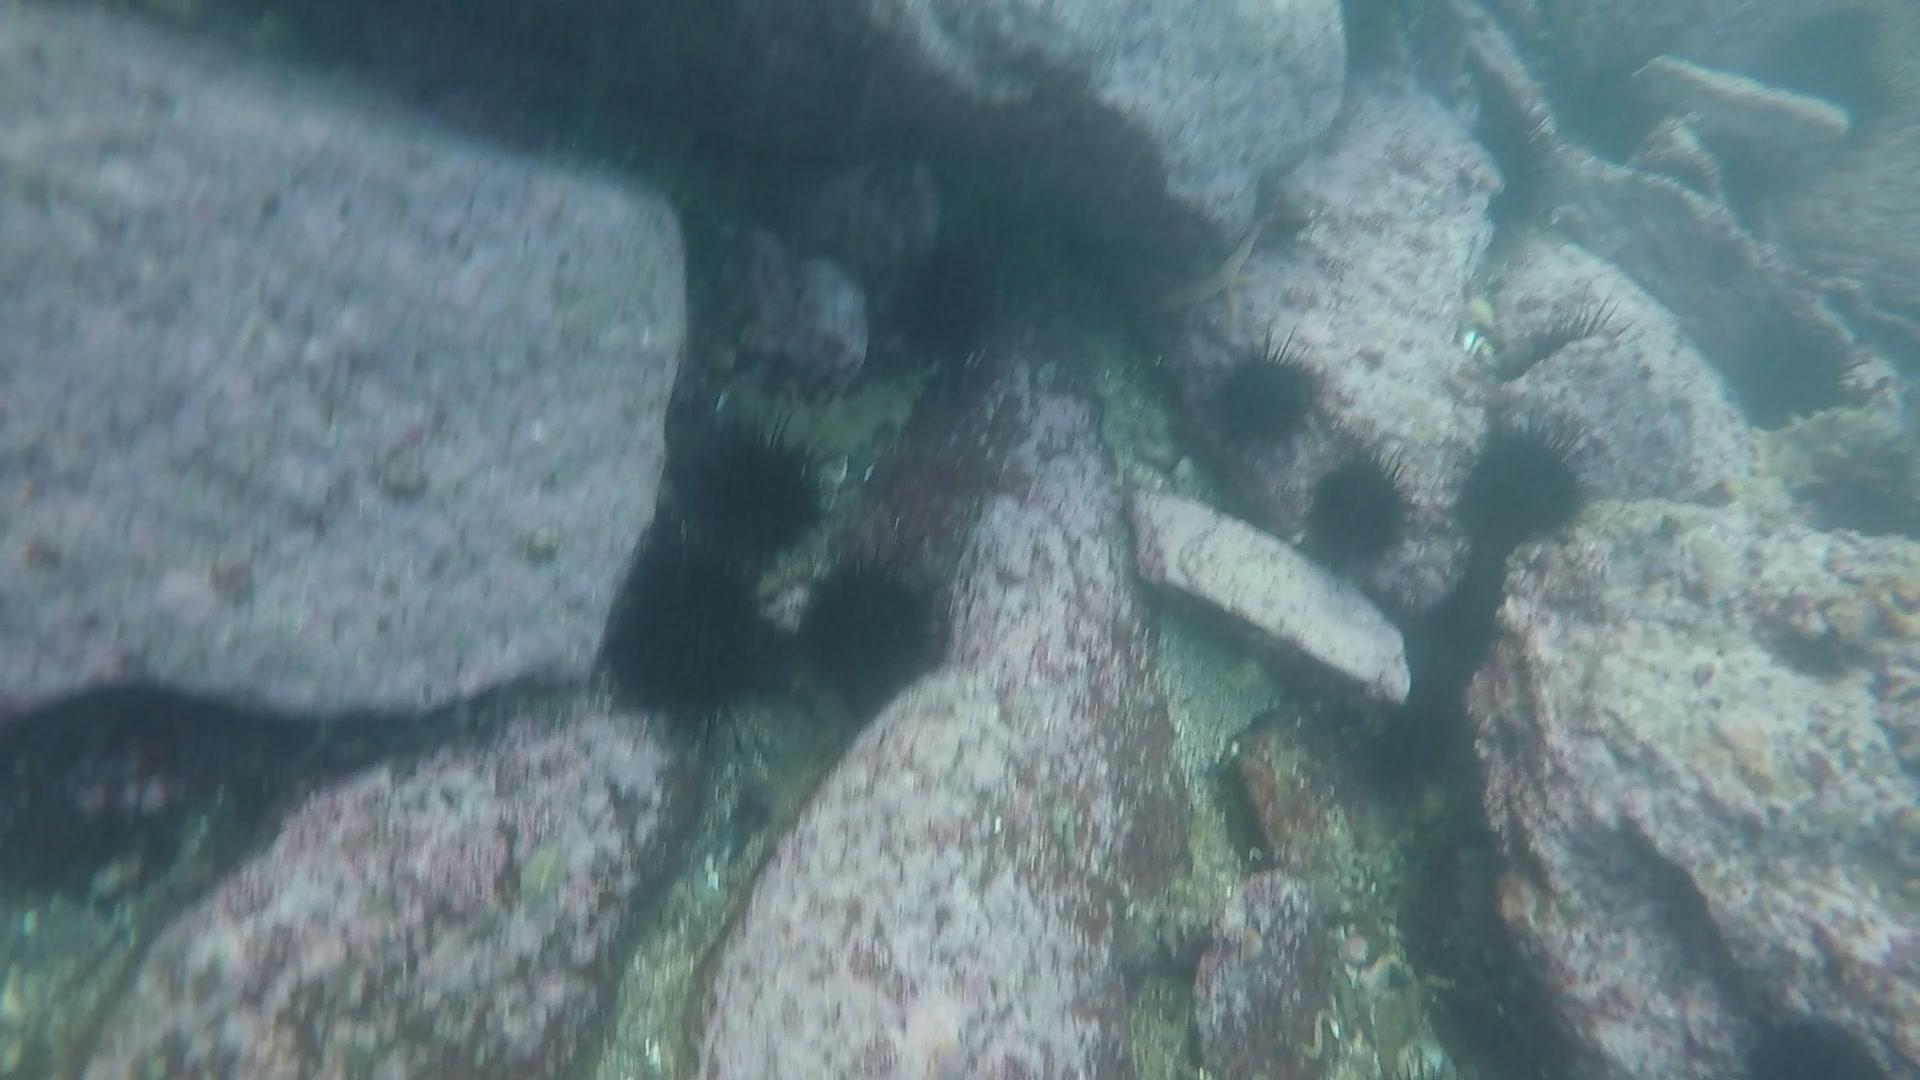echinus: (603, 537, 796, 723), (1742, 3, 1916, 142), (684, 419, 840, 574), (785, 539, 943, 690), (1448, 427, 1600, 570), (1196, 330, 1338, 463), (1288, 440, 1422, 568), (1727, 324, 1875, 435), (891, 243, 1007, 369), (1366, 698, 1470, 808)
